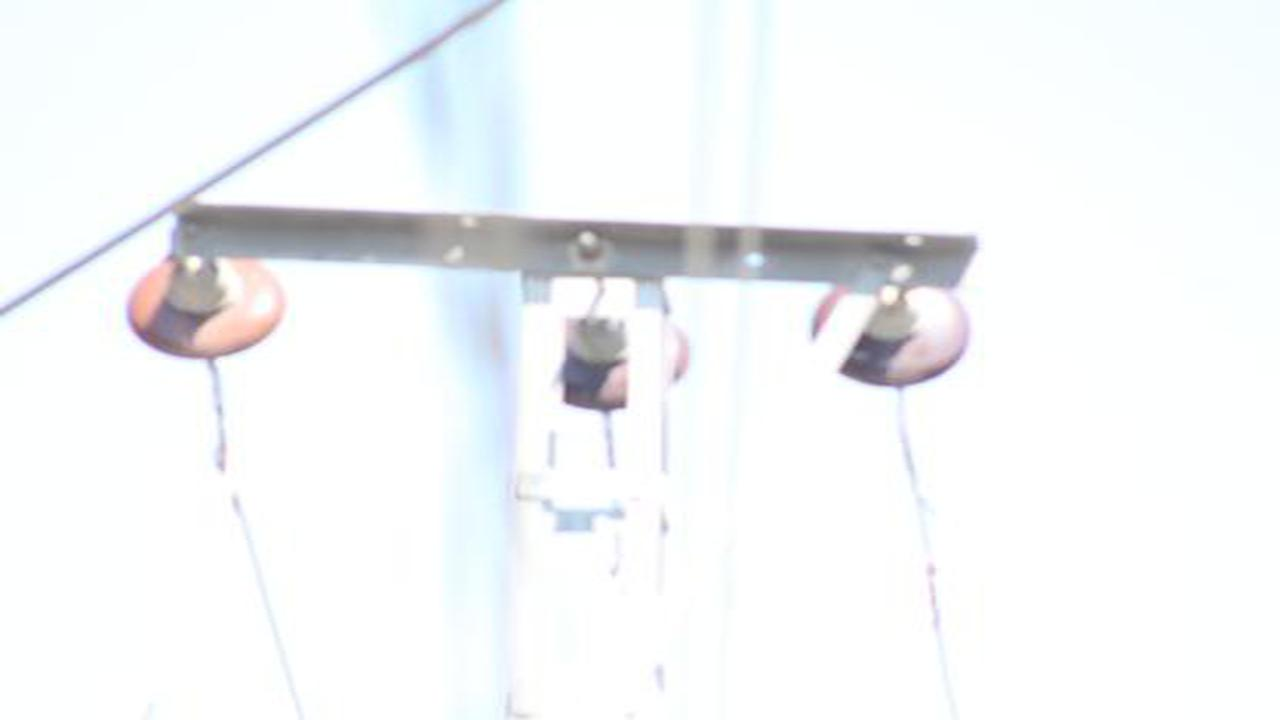insulator_disc: (125, 244, 287, 353), (818, 276, 979, 385), (564, 311, 697, 411)
